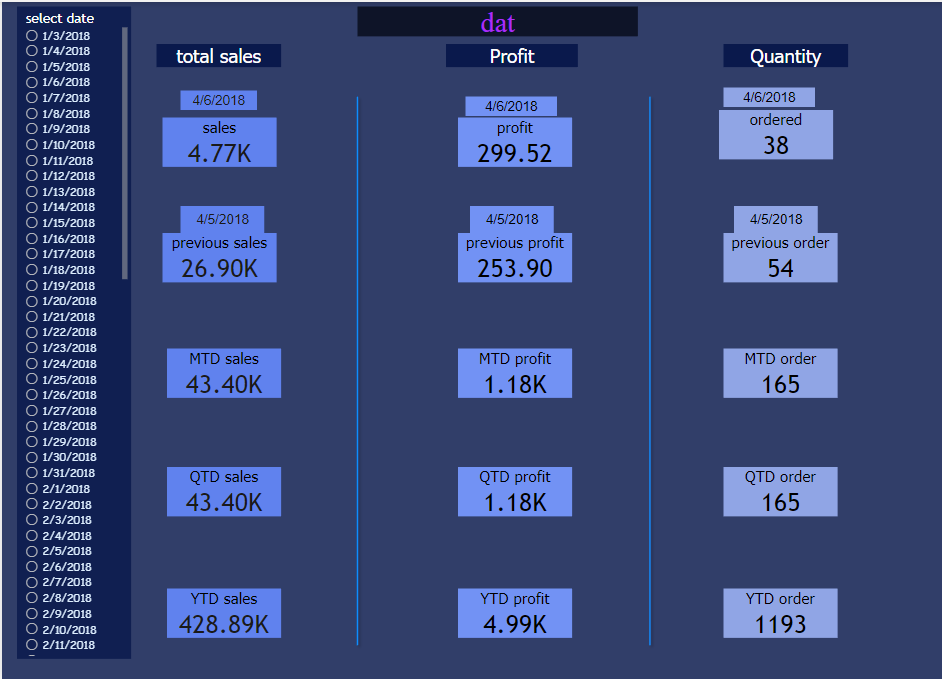

The dashboard page shown, as its layout file describes it:
{"tool":"powerbi","page":{"name":"Page 2","canvas":[1400,1000],"ordinal":2},"visuals":[{"type":"slicer","fields":{"Values":["cal.Date"]},"box":[22.1,6.6,167.8,960.3],"z":0},{"type":"shape","box":[494.5,130.2,57.4,825.6],"z":1000},{"type":"card","title":"profit","fields":{"Values":["calculated_fields.today_profit"]},"box":[671.1,170,167.8,72.8],"z":2000},{"type":"card","title":"previous profit","fields":{"Values":["calculated_fields.previous_profit"]},"box":[671.1,340,167.8,72.8],"z":3000},{"type":"card","title":"MTD profit","fields":{"Values":["calculated_fields.mtd_profit"]},"box":[671.1,509.9,167.8,72.8],"z":4000},{"type":"card","title":"QTD profit","fields":{"Values":["calculated_fields.qtd_profit"]},"box":[671.1,684.3,167.8,72.8],"z":5000},{"type":"card","title":"YTD profit","fields":{"Values":["calculated_fields.ytd_profit"]},"box":[671.1,863.1,167.8,72.8],"z":6000},{"type":"card","title":"YTD sales","fields":{"Values":["calculated_fields.ytd_sales"]},"box":[242.8,863.1,167.8,72.8],"z":7000},{"type":"card","title":"QTD sales","fields":{"Values":["calculated_fields.qtd_sales"]},"box":[242.8,684.3,167.8,72.8],"z":8000},{"type":"card","title":"MTD sales","fields":{"Values":["calculated_fields.mtd_sales"]},"box":[242.8,509.9,167.8,72.8],"z":9000},{"type":"card","title":"previous sales","fields":{"Values":["calculated_fields.previous_sales"]},"box":[236.2,340,167.8,72.8],"z":10000},{"type":"card","title":"sales","fields":{"Values":["calculated_fields.today_sales"]},"box":[236.2,170,167.8,72.8],"z":11000},{"type":"card","title":"YTD order","fields":{"Values":["calculated_fields.ytd_qu"]},"box":[1061.8,863.1,167.8,72.8],"z":12000},{"type":"card","title":"QTD order","fields":{"Values":["calculated_fields.qtd_qu"]},"box":[1061.8,684.3,167.8,72.8],"z":13000},{"type":"card","title":"MTD order","fields":{"Values":["calculated_fields.mtd_qu"]},"box":[1061.8,509.9,167.8,72.8],"z":14000},{"type":"card","title":"previous order","fields":{"Values":["calculated_fields.previous_qu"]},"box":[1061.8,340,167.8,72.8],"z":15000},{"type":"card","title":"ordered","fields":{"Values":["calculated_fields.today_qu"]},"box":[1055.2,158.9,167.8,72.8],"z":16000},{"type":"textbox","title":"total sales","box":[227.4,61.8,183.2,39.7],"z":17000},{"type":"textbox","title":"Quantity","box":[1061.8,61.8,183.2,39.7],"z":18000},{"type":"textbox","title":"Profit","box":[653.4,61.8,194.3,39.7],"z":19000},{"type":"card","title":"sales","fields":{"Values":["calculated_fields.date1"]},"box":[262.7,130.2,112.6,28.7],"z":20000},{"type":"card","title":"sales","fields":{"Values":["calculated_fields.previous_days"]},"box":[262.7,300.2,123.6,39.7],"z":21000},{"type":"card","title":"sales","fields":{"Values":["calculated_fields.date1"]},"box":[682.1,139.1,134.7,28.7],"z":22000},{"type":"card","title":"sales","fields":{"Values":["calculated_fields.date1"]},"box":[1061.8,125.8,134.7,28.7],"z":23000},{"type":"card","title":"sales","fields":{"Values":["calculated_fields.previous_days"]},"box":[688.7,300.2,123.6,39.7],"z":24000},{"type":"card","title":"sales","fields":{"Values":["calculated_fields.previous_days"]},"box":[1077.3,300.2,123.6,39.7],"z":25000},{"type":"shape","box":[924.9,130.2,57.4,825.6],"z":26000},{"type":"textbox","title":"dat","box":[523.2,6.6,412.8,44.2],"z":27000}]}

Visuals, with their boxes in screenshot pixels (x1, y1, x2, y2), scaled from the page's 1400x1000 canvas onto the 942x679 screenshot:
slicer - cal.Date: select_region(15, 4, 128, 657)
shape: select_region(333, 88, 371, 649)
"profit" card: select_region(452, 115, 564, 165)
"previous profit" card: select_region(452, 231, 564, 280)
"MTD profit" card: select_region(452, 346, 564, 396)
"QTD profit" card: select_region(452, 465, 564, 514)
"YTD profit" card: select_region(452, 586, 564, 635)
"YTD sales" card: select_region(163, 586, 276, 635)
"QTD sales" card: select_region(163, 465, 276, 514)
"MTD sales" card: select_region(163, 346, 276, 396)
"previous sales" card: select_region(159, 231, 272, 280)
"sales" card: select_region(159, 115, 272, 165)
"YTD order" card: select_region(714, 586, 827, 635)
"QTD order" card: select_region(714, 465, 827, 514)
"MTD order" card: select_region(714, 346, 827, 396)
"previous order" card: select_region(714, 231, 827, 280)
"ordered" card: select_region(710, 108, 823, 157)
"total sales" textbox: select_region(153, 42, 276, 69)
"Quantity" textbox: select_region(714, 42, 838, 69)
"Profit" textbox: select_region(440, 42, 570, 69)
"sales" card: select_region(177, 88, 253, 108)
"sales" card: select_region(177, 204, 260, 231)
"sales" card: select_region(459, 94, 550, 114)
"sales" card: select_region(714, 85, 805, 105)
"sales" card: select_region(463, 204, 547, 231)
"sales" card: select_region(725, 204, 808, 231)
shape: select_region(622, 88, 661, 649)
"dat" textbox: select_region(352, 4, 630, 34)
